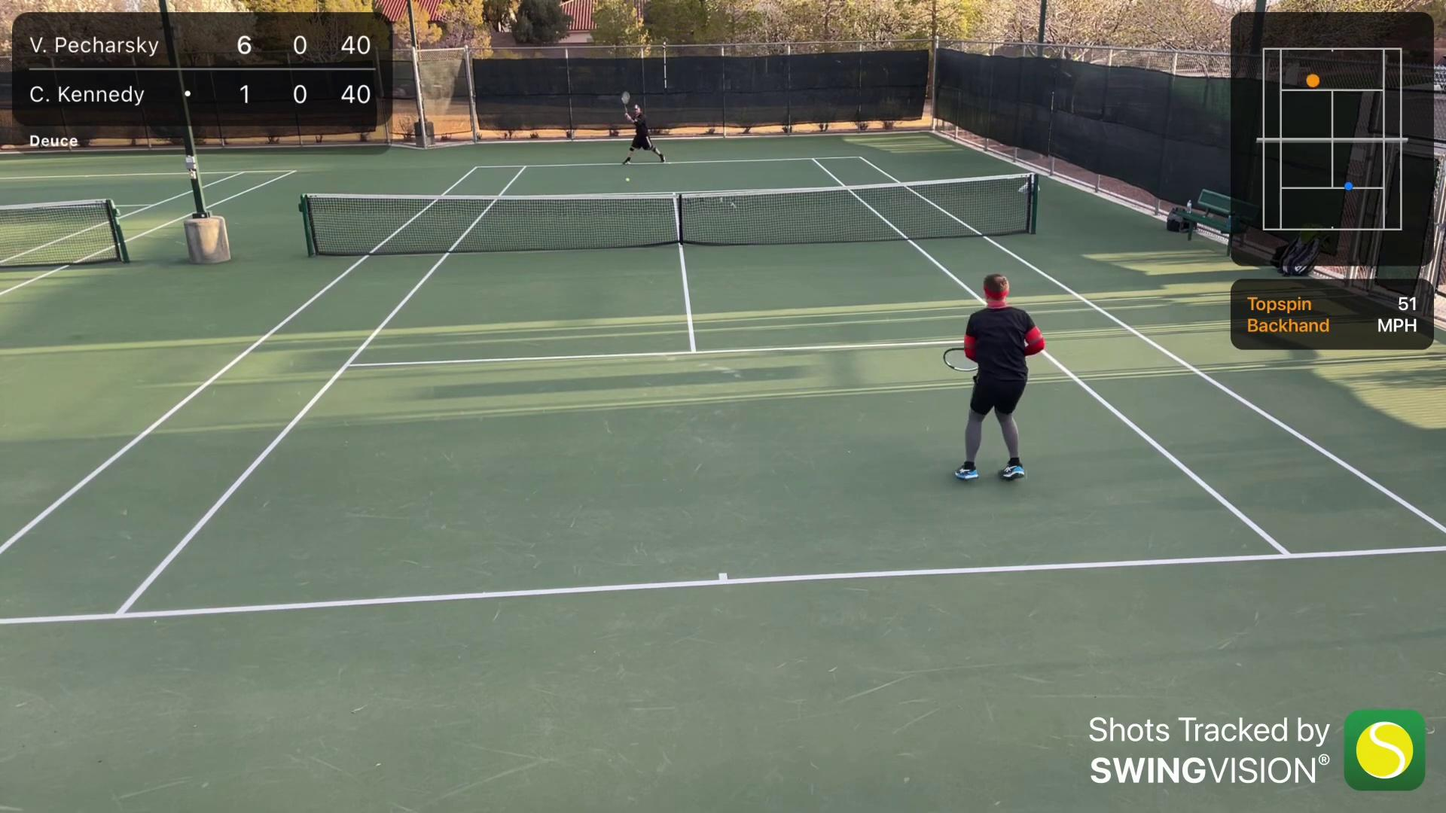ball: (625, 177, 630, 183)
